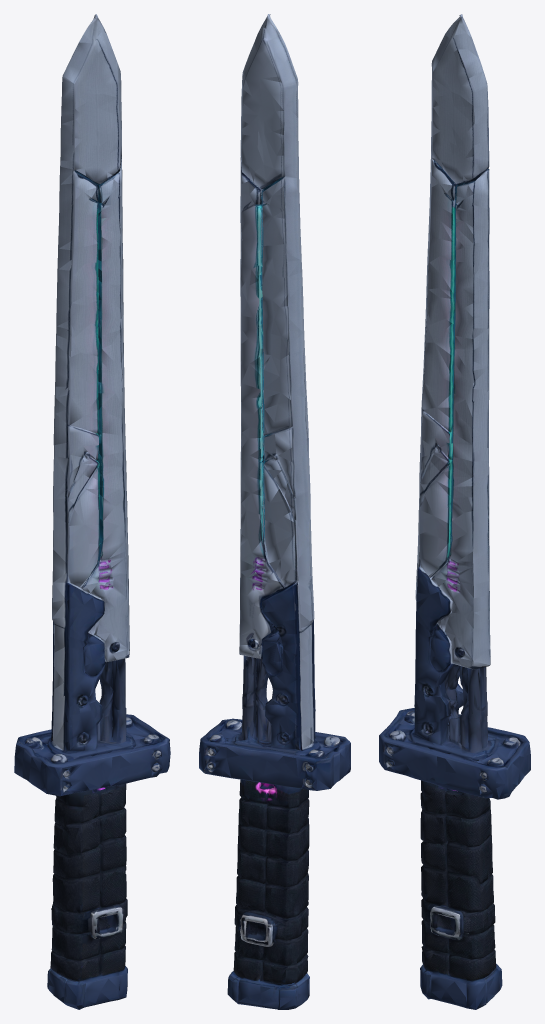
The model's file is PlayerSword.fbx.
3 views of the same model, side by side, from view 1: azimuth 30°, elevation 25°; view 2: azimuth 150°, elevation 25°; view 3: azimuth 330°, elevation 25° (orthographic).
Parts seen in each view (by area): view 1: tripo_node_d5f762b7; view 2: tripo_node_d5f762b7; view 3: tripo_node_d5f762b7.
Boxes of the visible parts, x1,y1,x2,y2 form: tripo_node_d5f762b7: (14,14,170,1009); tripo_node_d5f762b7: (199,14,350,1009); tripo_node_d5f762b7: (379,14,530,1009).
Bounding box in the file's own units: 12.64 × 90.01 × 7.04.
Materials: 1 (1 with a texture image).
